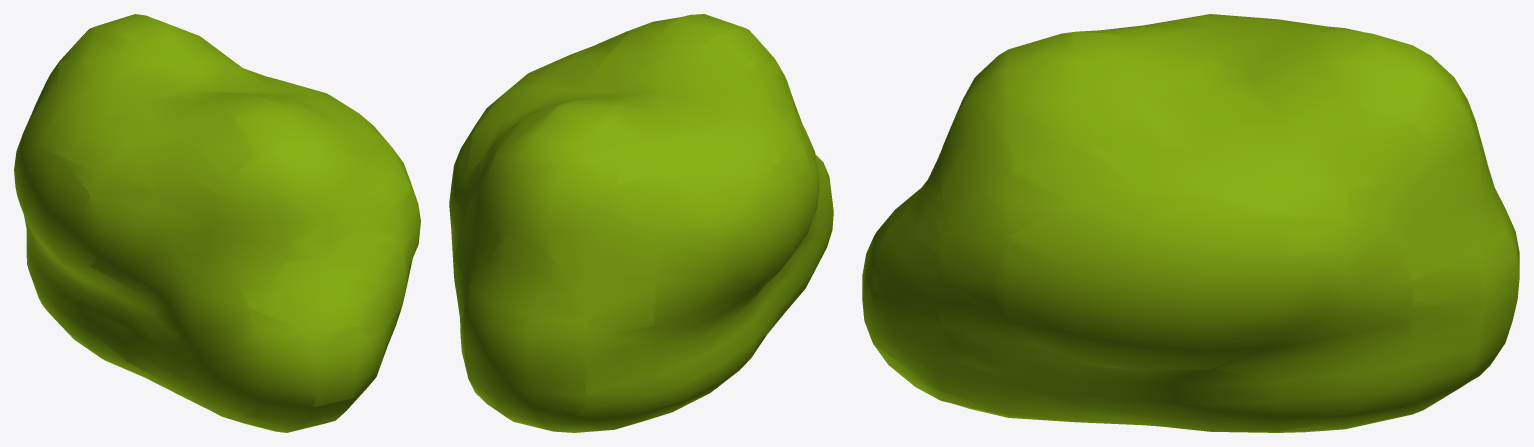
The model's file is Busch_002.fbx.
The picture shows the model from 3 angles, left to right: view 1: azimuth 30°, elevation 25°; view 2: azimuth 150°, elevation 25°; view 3: azimuth 270°, elevation 25°; orthographic projection. The views are drawn at different scales.
Parts seen in each view (by area): view 1: Busch 02; view 2: Busch 02; view 3: Busch 02.
Boxes of the visible parts, left/top/right/bottom form: Busch 02: left=14, top=14, right=420, bottom=432; Busch 02: left=449, top=14, right=833, bottom=432; Busch 02: left=862, top=14, right=1519, bottom=432.
Size of the model in its own units: 181 by 161 by 262.
